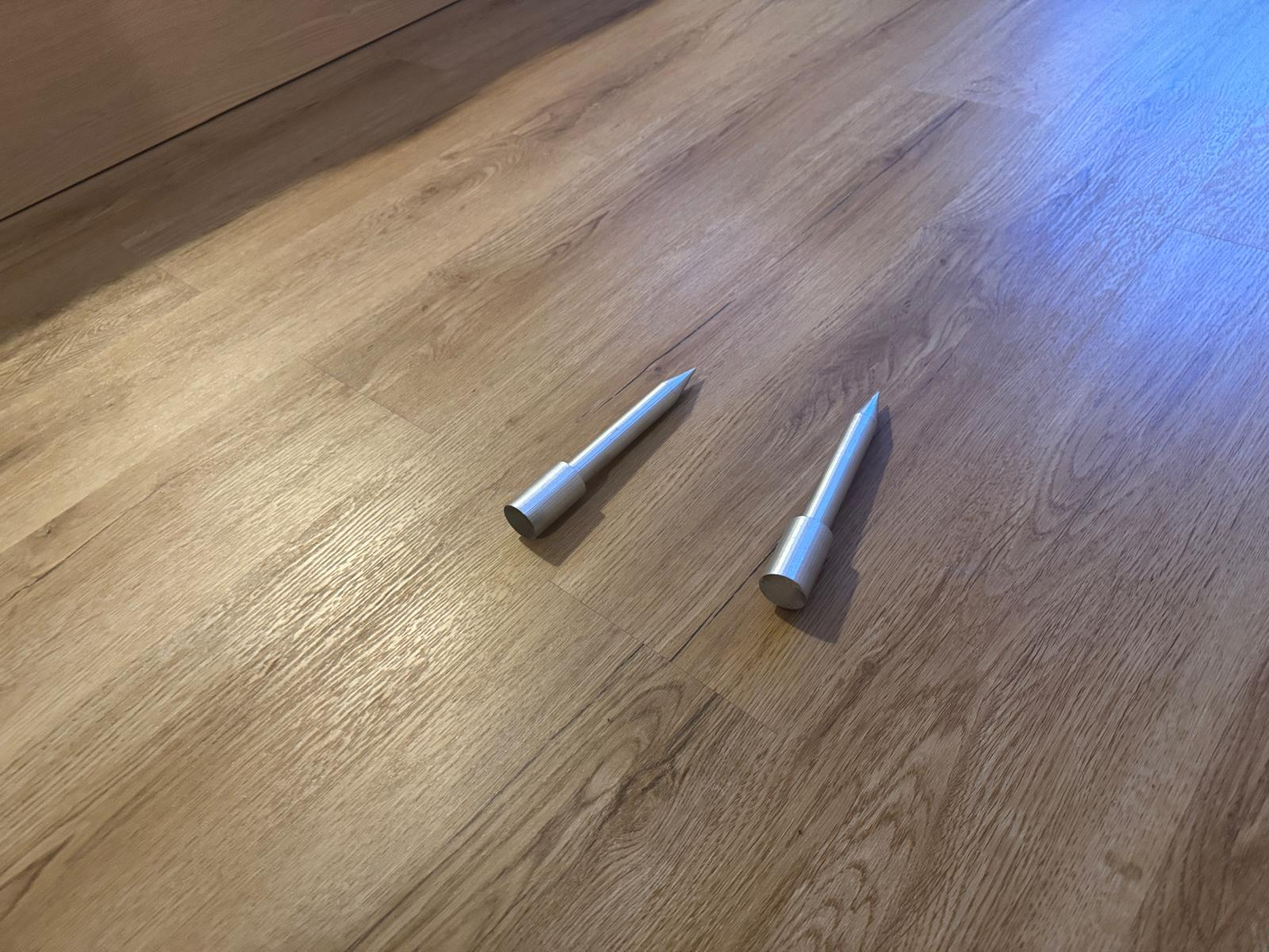probes: (504, 368, 694, 537), (760, 393, 878, 609)
